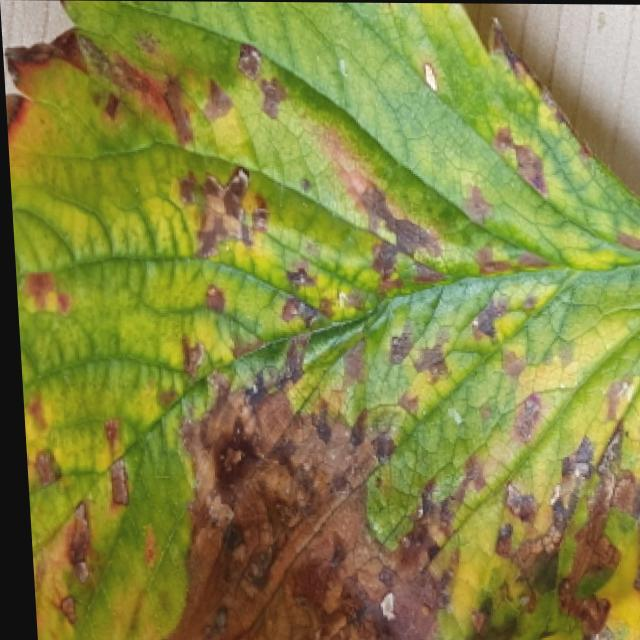Angular Leafspot: (2, 0, 640, 640)
